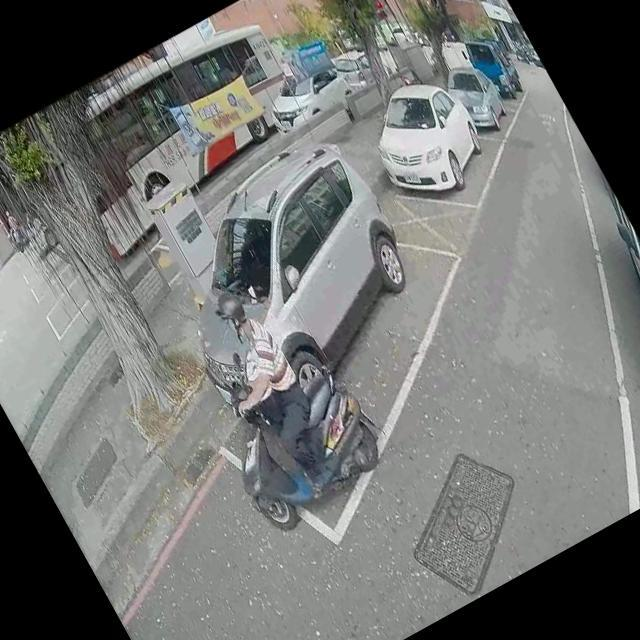person: (180, 277, 354, 514), (0, 204, 29, 250)
